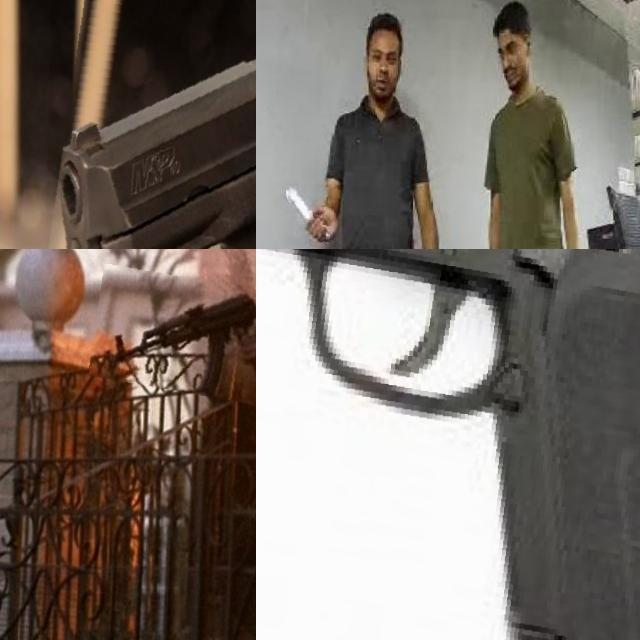-: (285, 181, 341, 247)
gun-knife-thesis - v11 Yolov5 augmented: (256, 249, 640, 640), (44, 0, 256, 249), (92, 266, 256, 396)
